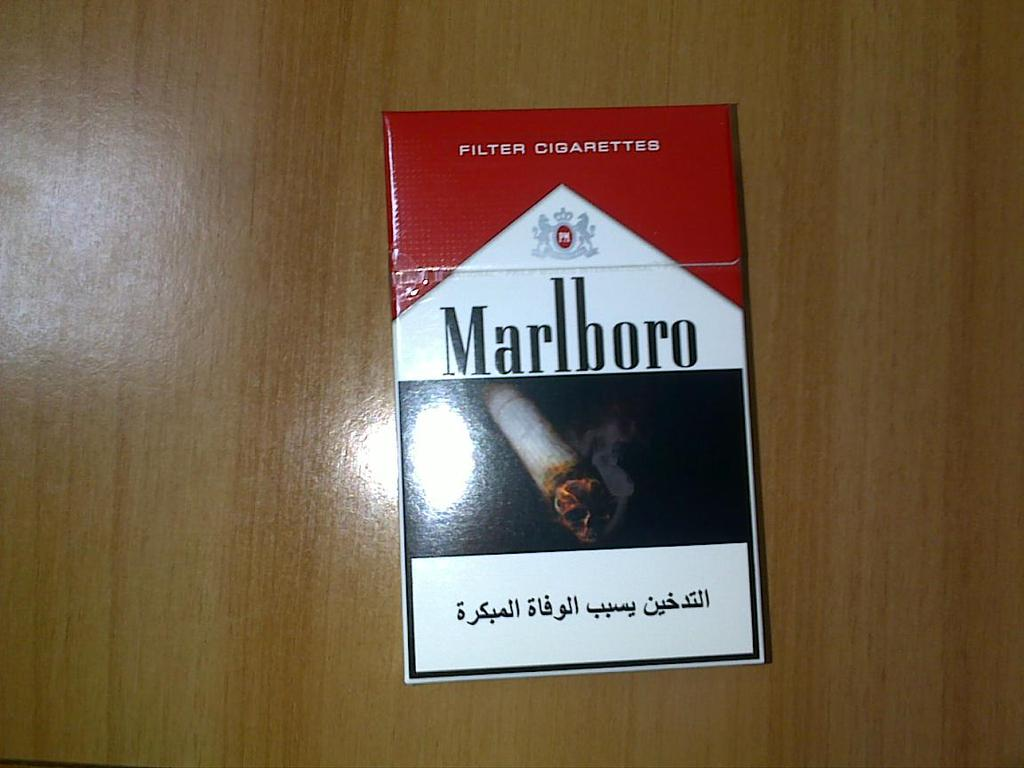marlboro_red: (398, 114, 743, 667)
